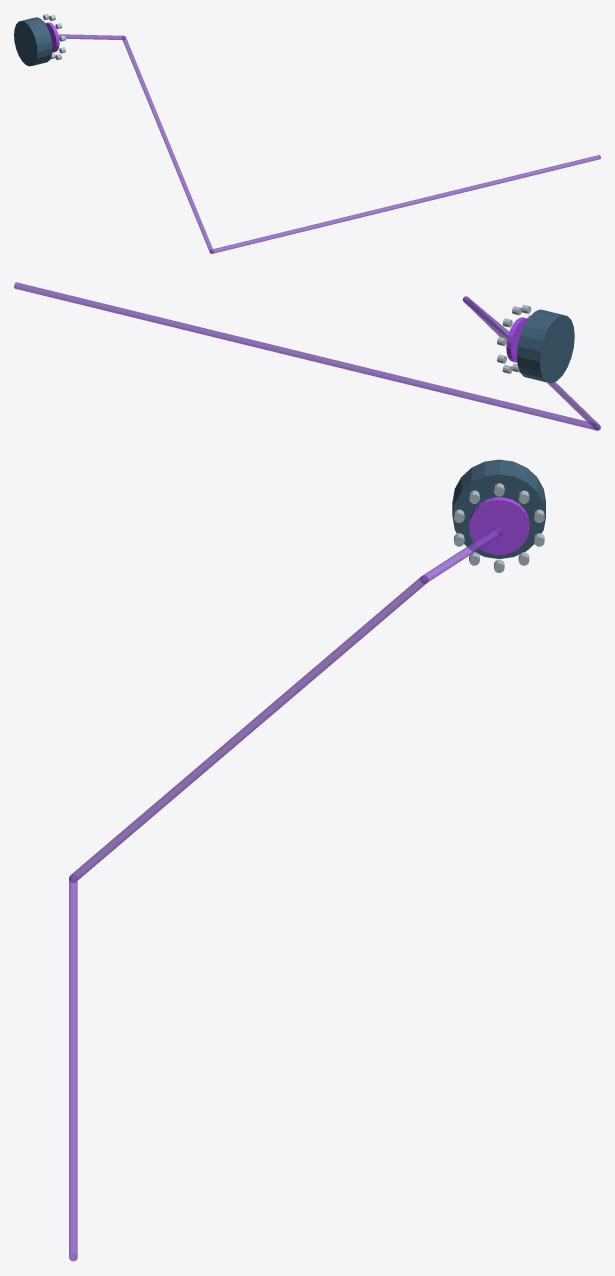
The model's file is 37_L72_OpticalThicknessViewport.fbx.
3 views of the same model, one above another, from view 1: azimuth 30°, elevation 25°; view 2: azimuth 150°, elevation 25°; view 3: azimuth 270°, elevation 25° (orthographic). The views are drawn at different scales.
Visible parts, largest first — view 1: OpticalThicknessViewport; view 2: OpticalThicknessViewport; view 3: OpticalThicknessViewport.
Boxes of the visible parts, <box> form: OpticalThicknessViewport: <box>14,14,600,253</box>; OpticalThicknessViewport: <box>14,282,600,430</box>; OpticalThicknessViewport: <box>69,459,545,1261</box>.
Size of the model in its own units: 462 by 163 by 204.
